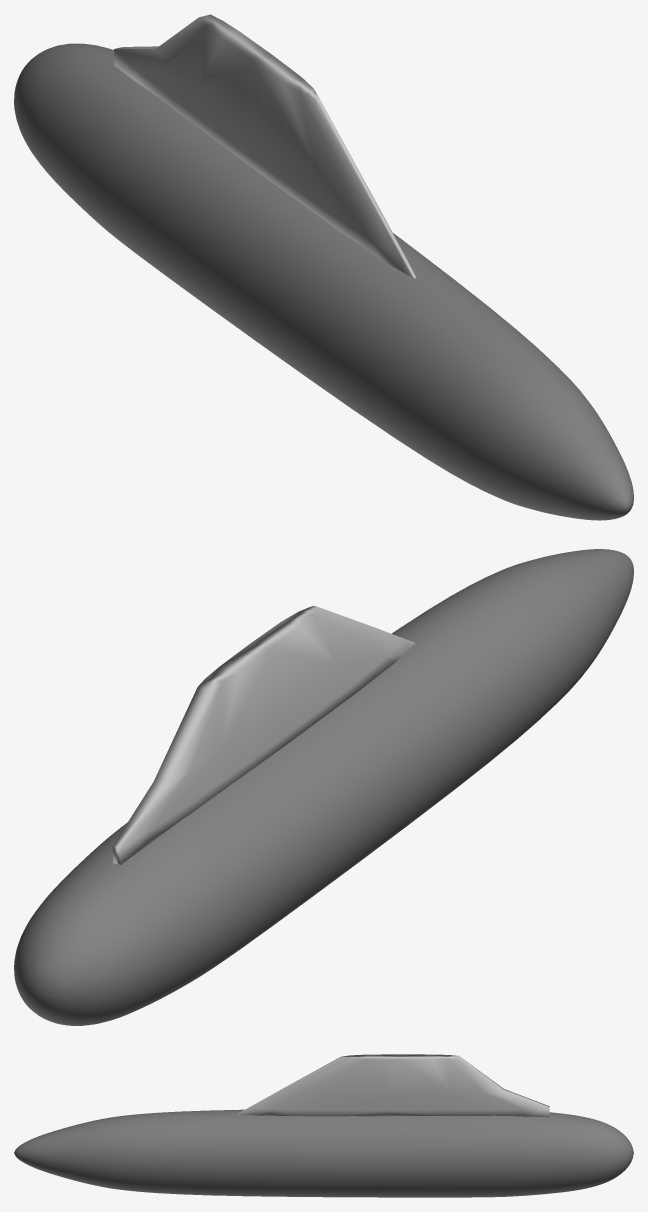
The model's file is ExternalTank_FlightGear.glb.
3 renders of one model, top to bottom at view 1: azimuth 30°, elevation 25°; view 2: azimuth 150°, elevation 25°; view 3: azimuth 270°, elevation 25°, orthographic. The views are drawn at different scales.
Parts seen in each view (by area): view 1: Tank, Pylon; view 2: Tank, Pylon; view 3: Tank, Pylon.
Part boxes in pixels (<box>): Tank: <box>14,43,633,520</box>; Pylon: <box>114,14,416,278</box>; Tank: <box>14,549,633,1025</box>; Pylon: <box>112,606,414,864</box>; Tank: <box>14,1109,633,1197</box>; Pylon: <box>237,1054,549,1117</box>.
Bounding box in the file's own units: 0.6652 × 1.12 × 4.61.
Materials: 2 (1 with a texture image).
